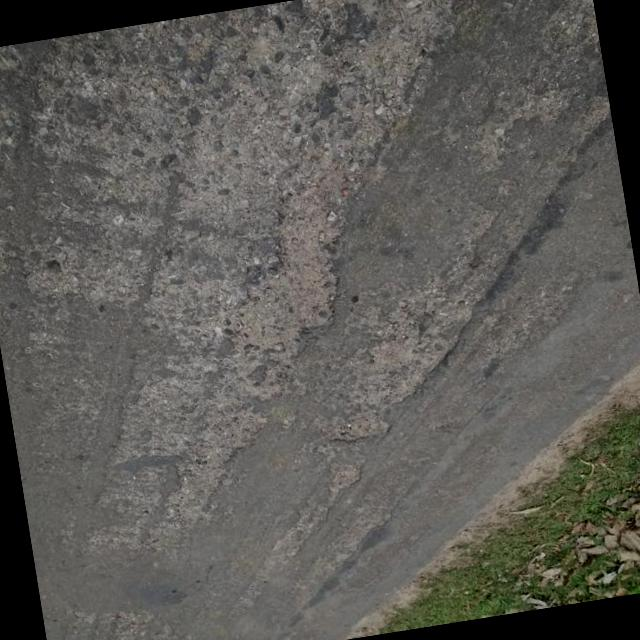pothole: (306, 298, 488, 454), (215, 205, 362, 368)
